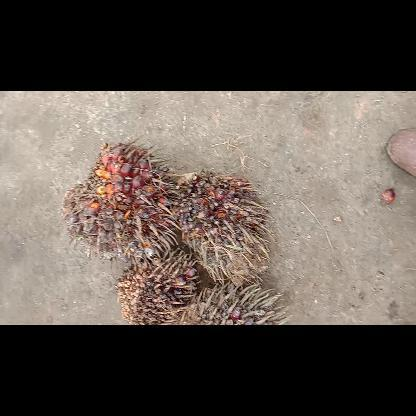TBS abnormal: (176, 172, 268, 284), (117, 252, 199, 324)
TBS masak: (63, 141, 175, 252)
